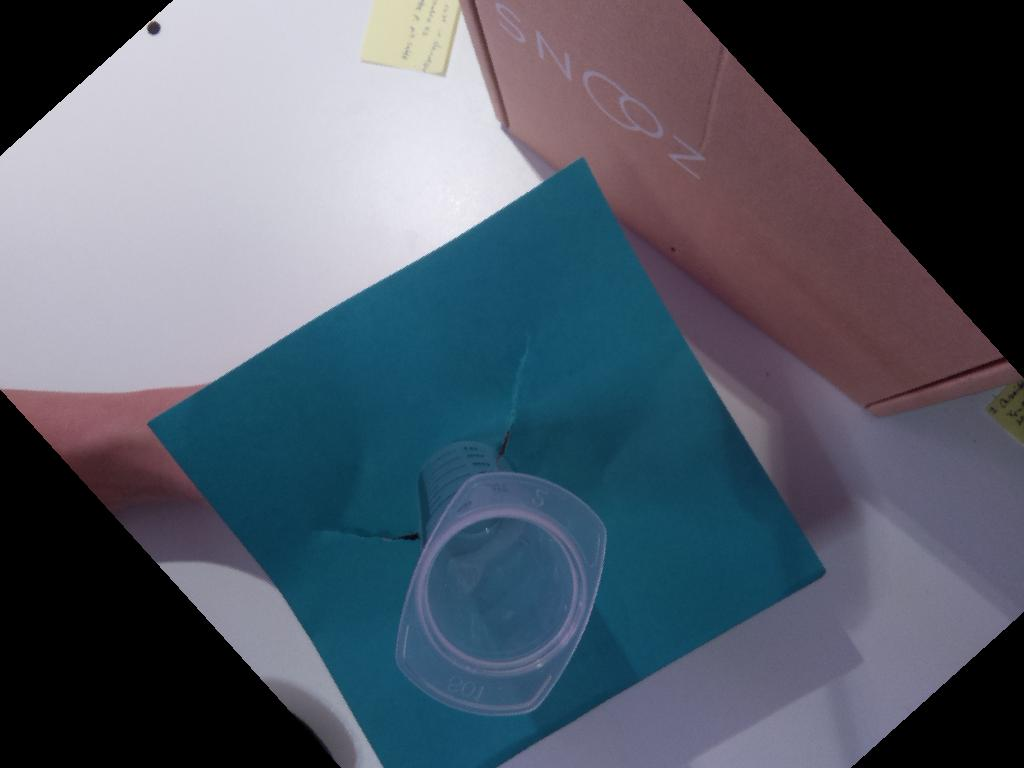clean: (395, 473, 607, 716)
